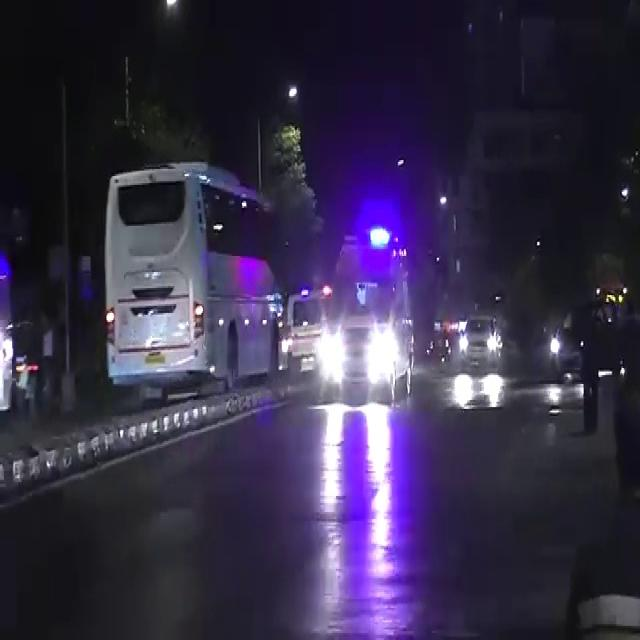ambulance: (324, 206, 406, 377)
